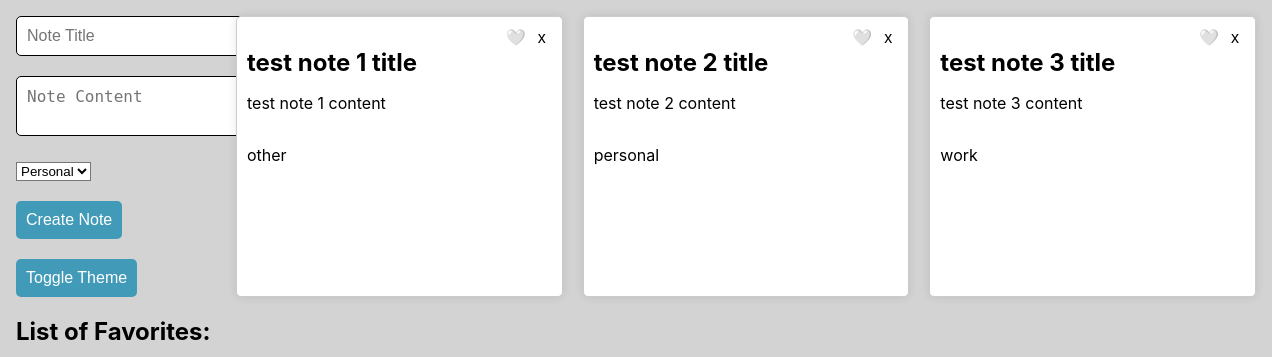
Test case: delete notes › delete dummy note
Expected: the heading "test note 1 title" is shown, x1=247 y1=48 x2=417 y2=77
Expected: the text box "test note 1 content" is shown, x1=247 y1=93 x2=386 y2=113
Click the 1st button "x" at (542, 38), box x1=532 y1=27 x2=552 y2=48
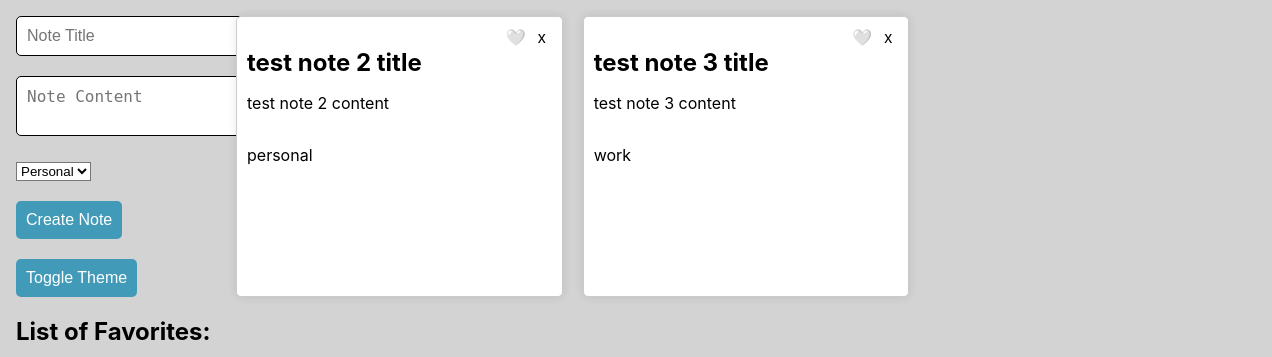
Result: the text box "other" is gone
